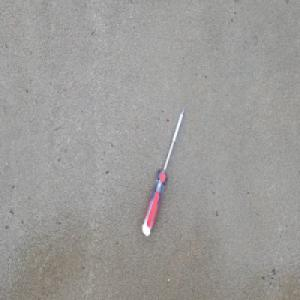Screwdriver: (140, 103, 186, 238)
